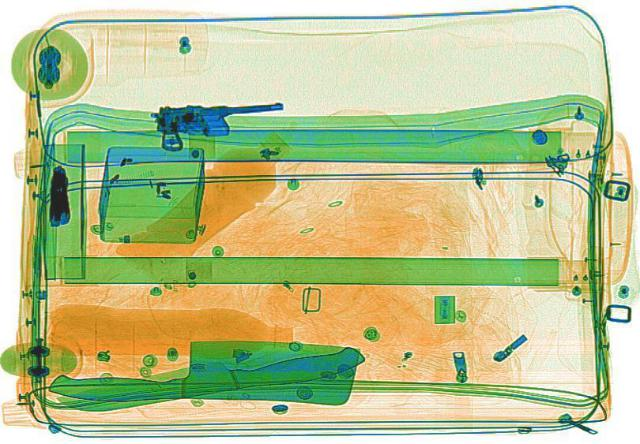Gun: (149, 97, 293, 150), (43, 163, 69, 225)
Knife: (40, 339, 370, 418), (48, 331, 364, 412)
